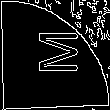M_W: (29, 31, 81, 79)
